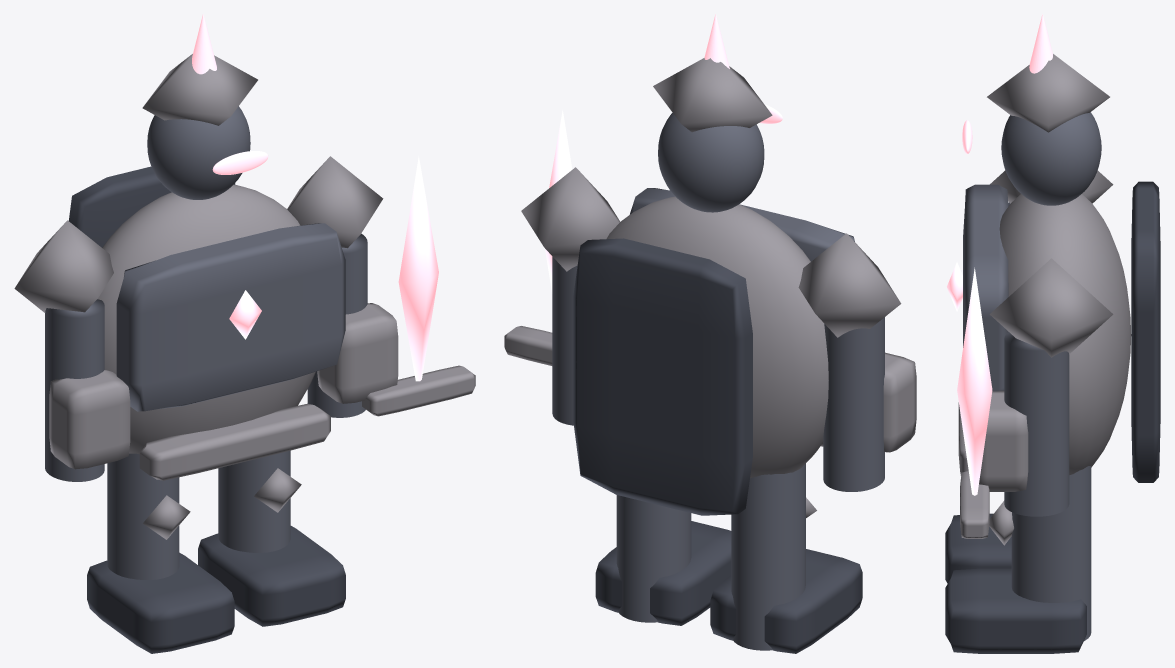
The model's file is dark-warrior.glb.
The picture shows the model from 3 angles, left to right: view 1: azimuth 30°, elevation 25°; view 2: azimuth 150°, elevation 25°; view 3: azimuth 270°, elevation 25°; orthographic projection. The views are drawn at different scales.
Parts seen in each view (by area): view 1: breastplate, torso, leftBoot, rightBoot, BeltArmor, LeftForearmGuard, leftLeg, head, shoulder-1, rightLeg, arm-1, RightForearmGuard (+11 smaller); view 2: cape, torso, leftLeg, arm-1, head, leftBoot, rightLeg, shoulder-1, rightBoot, helmet, shoulder1, arm1 (+5 smaller); view 3: torso, rightBoot, arm1, cape, rightLeg, head, shoulder1, breastplate, helmet, blade, RightForearmGuard, leftBoot (+6 smaller).
Boxes of the visible parts, x1,y1,x2,y2 form: breastplate: (116, 223, 345, 411); torso: (97, 184, 315, 454); leftBoot: (87, 552, 234, 653); rightBoot: (198, 526, 345, 626); BeltArmor: (139, 403, 330, 480); LeftForearmGuard: (49, 370, 130, 469); leftLeg: (107, 453, 179, 579); head: (147, 106, 250, 199); shoulder-1: (14, 220, 113, 312); rightLeg: (218, 450, 290, 552); arm-1: (45, 299, 104, 481); RightForearmGuard: (317, 303, 398, 403); cape: (573, 238, 752, 515); torso: (606, 196, 828, 478); leftLeg: (731, 463, 805, 650); arm-1: (823, 317, 884, 491); head: (658, 113, 764, 212); leftBoot: (710, 549, 862, 653); rightLeg: (616, 495, 691, 622); shoulder-1: (798, 233, 901, 337); rightBoot: (595, 521, 731, 625); helmet: (653, 58, 772, 132); shoulder1: (521, 167, 620, 271); arm1: (552, 256, 577, 425); torso: (999, 194, 1131, 474); rightBoot: (945, 568, 1086, 653); arm1: (1004, 332, 1069, 516); cape: (1131, 181, 1160, 482); rightLeg: (1011, 466, 1091, 640); head: (1001, 112, 1101, 205); shoulder1: (989, 258, 1113, 357); breastplate: (963, 184, 1008, 391); helmet: (987, 54, 1109, 132); blade: (957, 267, 992, 495); RightForearmGuard: (979, 390, 1028, 491); leftBoot: (945, 513, 1011, 583).
Size of the model in its own units: 1.66 by 2.22 by 0.73.
